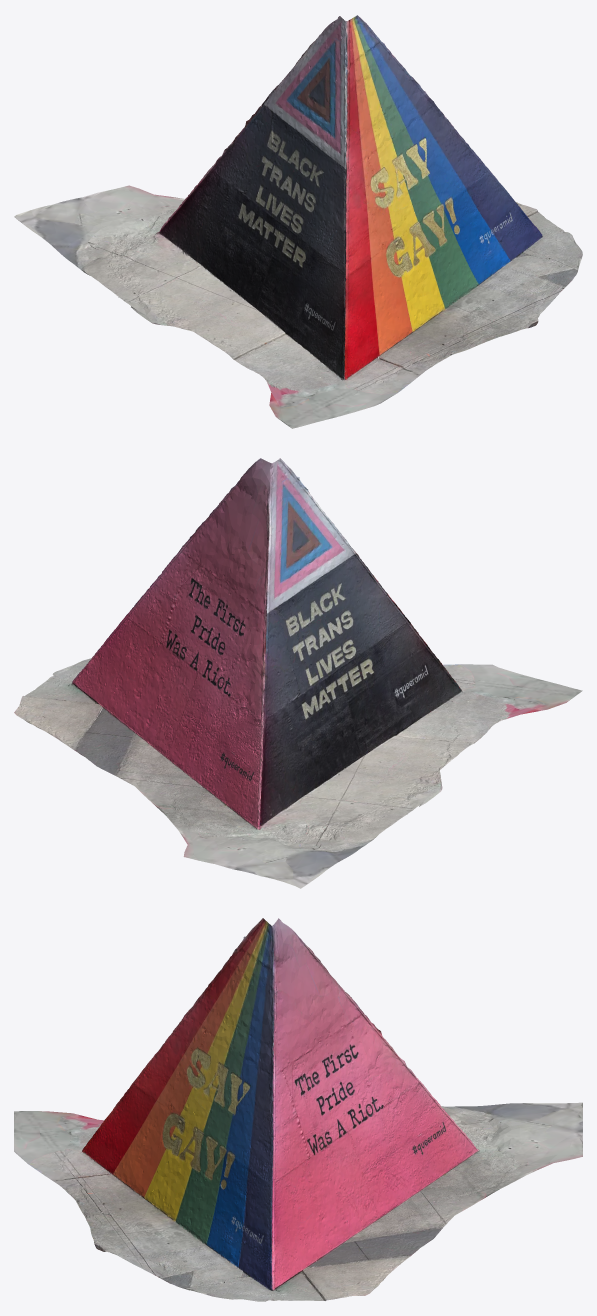
File: QUEERAMID.glb
3 views of the same model, one above another, from view 1: azimuth 30°, elevation 25°; view 2: azimuth 150°, elevation 25°; view 3: azimuth 270°, elevation 25° (orthographic). The views are drawn at different scales.
Bounding box in the file's own units: 5.47 × 3.6 × 6.59.
1 material, 1 textured.
